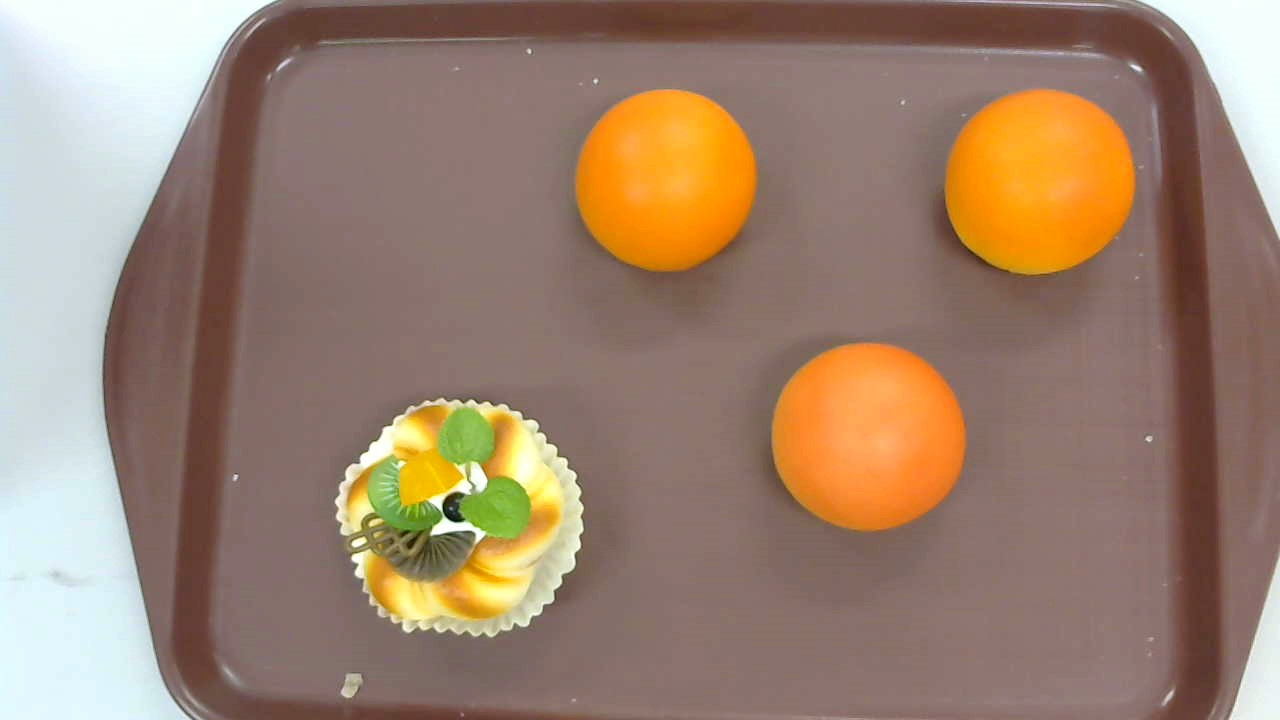bun: (770, 342, 966, 532), (944, 89, 1135, 278), (575, 88, 756, 272)
fruit tart: (335, 399, 585, 637)
